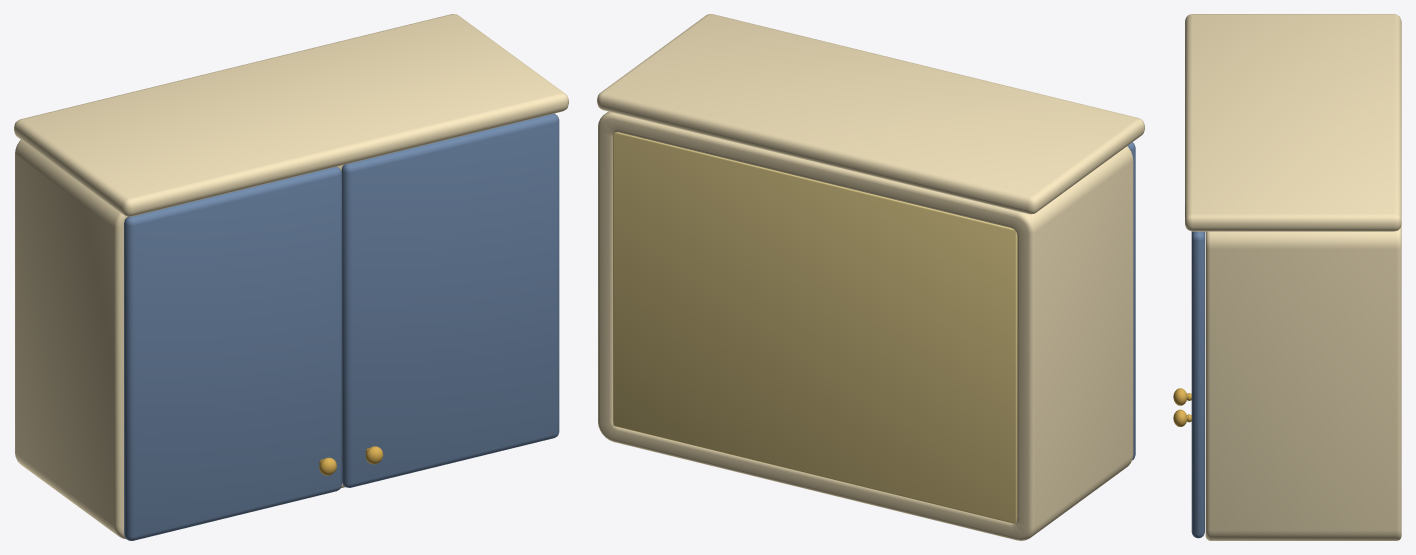
The model's file is armario_parede_2portas_creme_azul.glb.
3 views of the same model, side by side, from view 1: azimuth 30°, elevation 25°; view 2: azimuth 150°, elevation 25°; view 3: azimuth 270°, elevation 25° (orthographic). The views are drawn at different scales.
Visible parts, largest first — view 1: armario_parede_2portas_creme_azul, porta_2, porta_1; view 2: armario_parede_2portas_creme_azul, porta_1; view 3: armario_parede_2portas_creme_azul, porta_2.
Part boxes in pixels (left/top/right/bottom): armario_parede_2portas_creme_azul: left=14, top=14, right=568, bottom=539; porta_2: left=341, top=113, right=559, bottom=487; porta_1: left=124, top=166, right=341, bottom=540; armario_parede_2portas_creme_azul: left=597, top=14, right=1144, bottom=540; porta_1: left=1127, top=142, right=1135, bottom=460; armario_parede_2portas_creme_azul: left=1185, top=14, right=1401, bottom=540; porta_2: left=1173, top=231, right=1204, bottom=538.
Bounding box in the file's own units: 0.798 × 0.6 × 0.375.
Materials: 1 (1 with a texture image).
